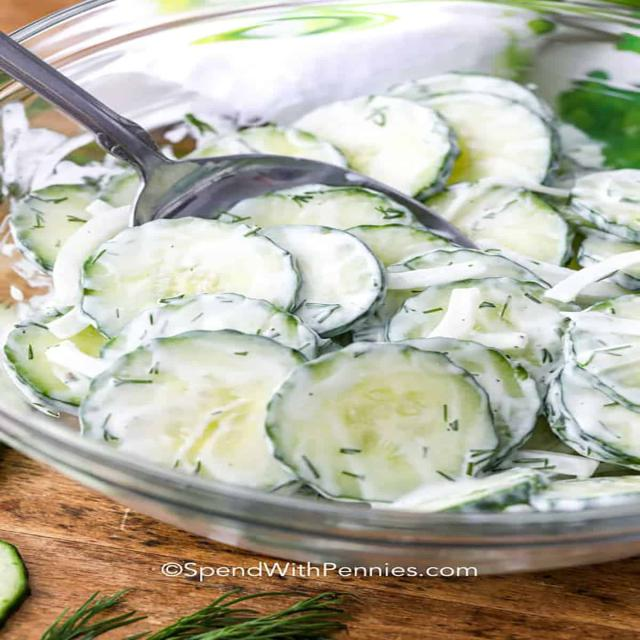Pickle: (266, 342, 499, 501), (79, 330, 306, 489), (81, 218, 300, 338), (388, 278, 564, 384), (294, 95, 458, 196), (548, 295, 640, 469), (420, 92, 553, 184)
